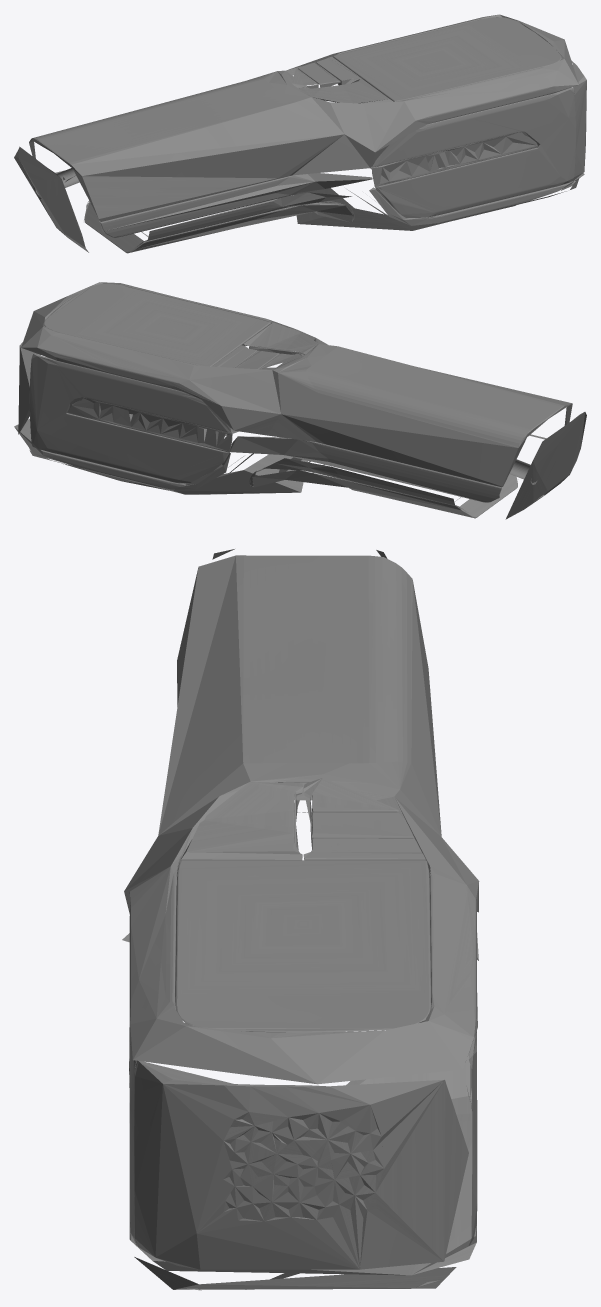
Rendered from device_vein_finder_a01.glb.
The picture shows the model from 3 angles, top to bottom: view 1: azimuth 30°, elevation 25°; view 2: azimuth 150°, elevation 25°; view 3: azimuth 270°, elevation 25°; orthographic projection. The views are drawn at different scales.
Visible parts, largest first — view 1: geometry_0; view 2: geometry_0; view 3: geometry_0.
Part boxes in pixels (x1,y1,x2,y2): geometry_0: (14,14,586,253); geometry_0: (14,282,586,519); geometry_0: (122,549,479,1290).
Size of the model in its own units: 0.42 by 0.117 by 0.1232.
Materials: 1 (1 with a texture image).
